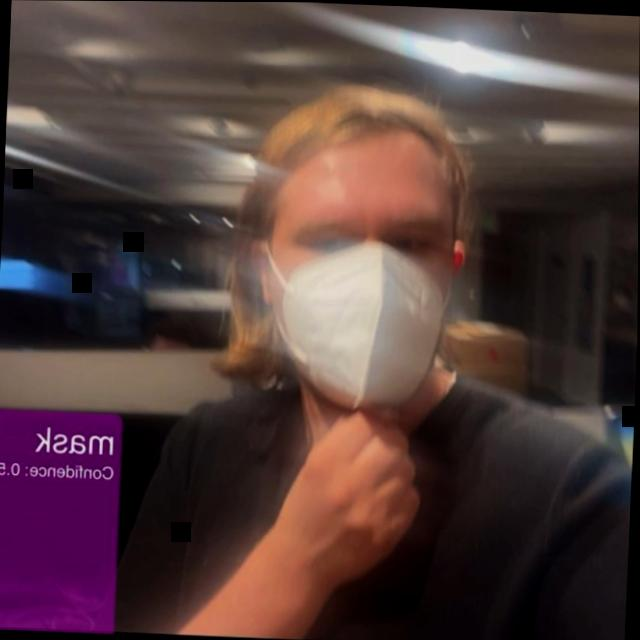Mask: (218, 67, 498, 419)
